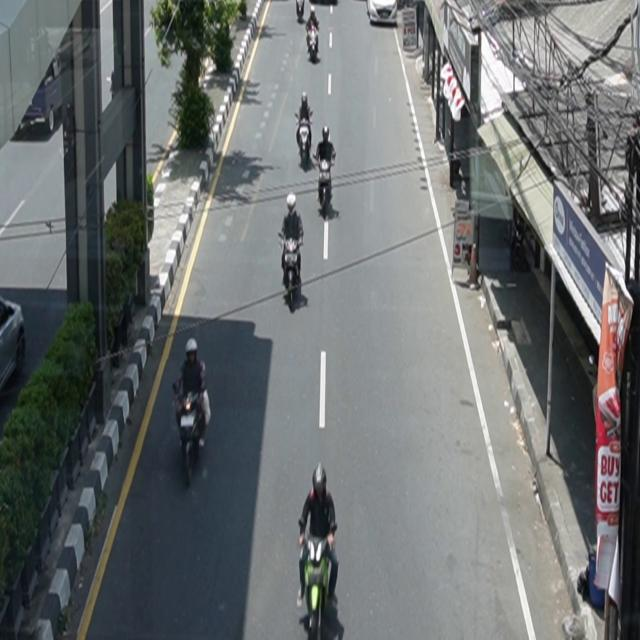car: (1, 296, 27, 393), (367, 1, 398, 26)
